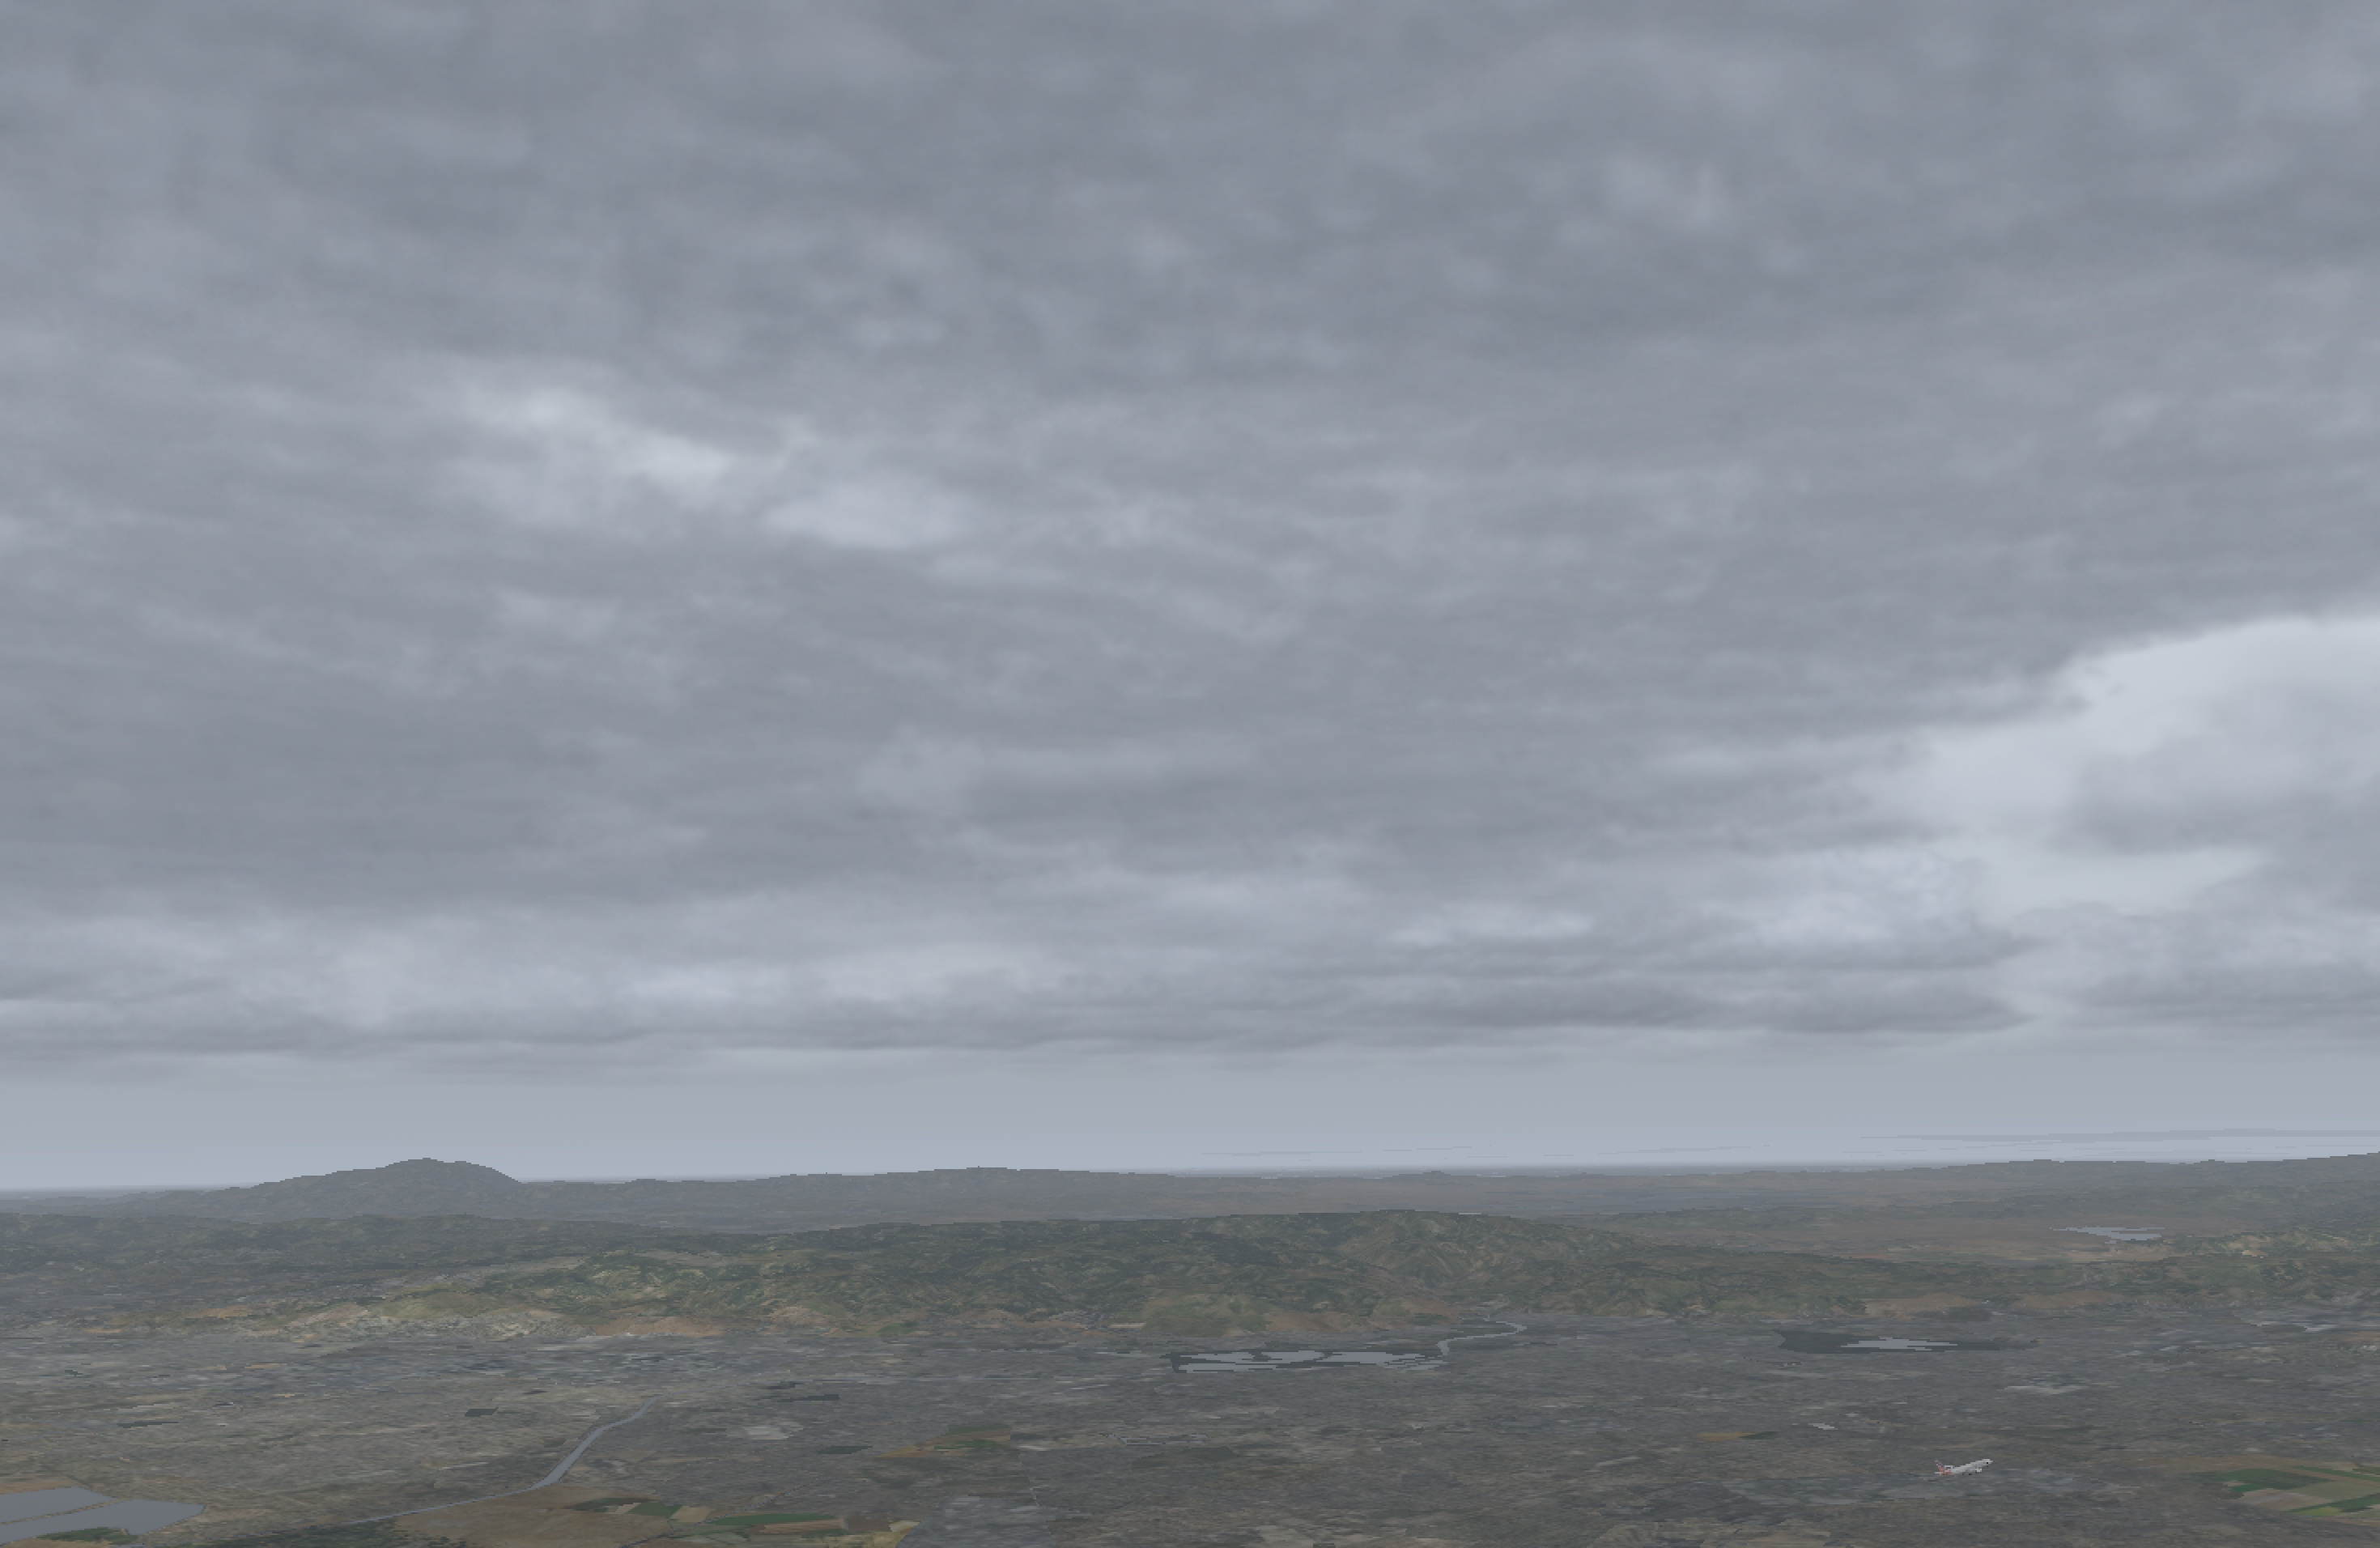aircraft: (1936, 1458, 1998, 1480)
